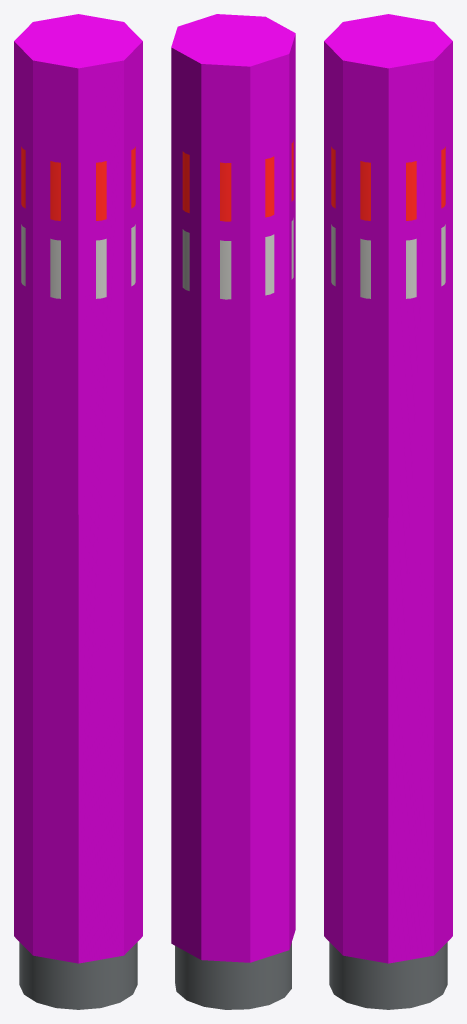
The model's file is EN_Park_Bollard.fbx.
3 views of the same model, side by side, from view 1: azimuth 90°, elevation 25°; view 2: azimuth 150°, elevation 25°; view 3: azimuth 270°, elevation 25° (orthographic).
Parts seen in each view (by area): view 1: COL_Body, EN_Park_Bollard_Mesh; view 2: COL_Body, EN_Park_Bollard_Mesh; view 3: COL_Body, EN_Park_Bollard_Mesh.
Boxes of the visible parts, x1,y1,x2,y2 form: COL_Body: (14,14,142,963); EN_Park_Bollard_Mesh: (19,146,137,1009); COL_Body: (171,14,295,962); EN_Park_Bollard_Mesh: (175,140,293,1009); COL_Body: (324,14,452,963); EN_Park_Bollard_Mesh: (329,146,447,1009).
Bounding box in the file's own units: 0.12 × 0.97 × 0.12.
